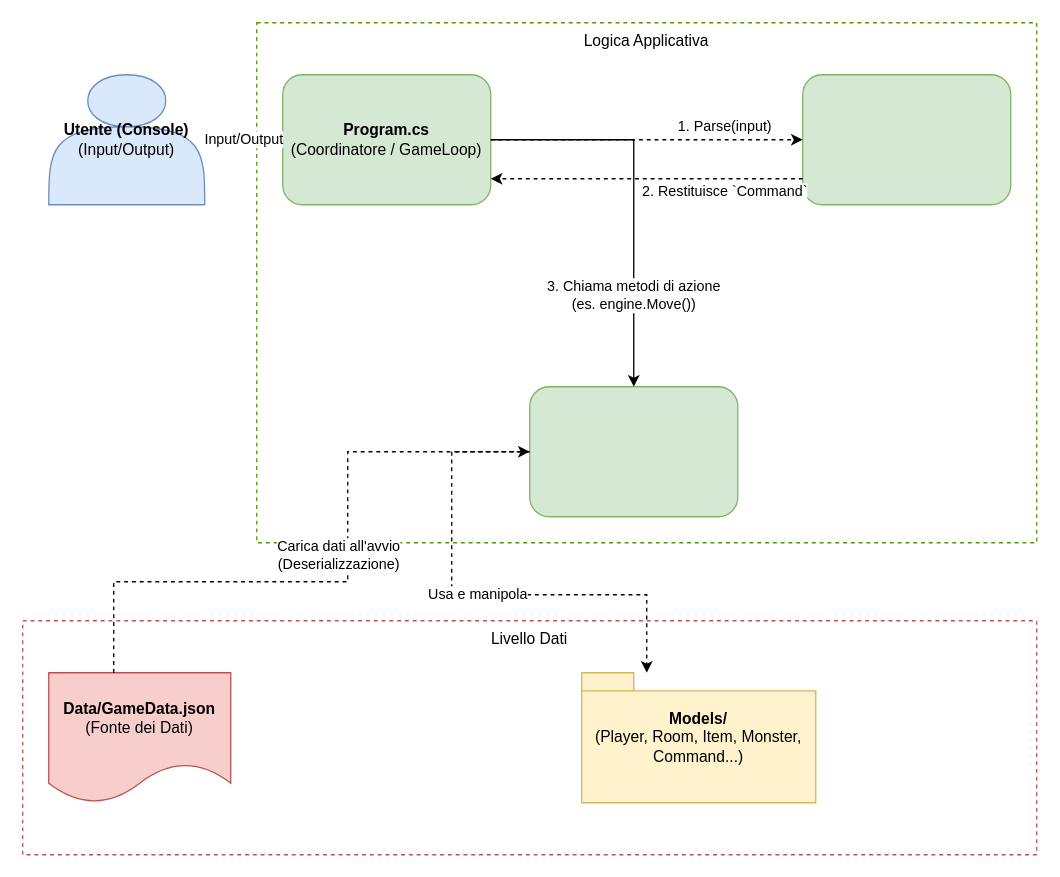
Image size: 1060x877. Some labels were removed from this diagram. Here are the shapes that lost their labels. From the top down, the centre of each, then its label:
At [906,139]: "CommandParser.cs (Interprete)".
At [633,451]: "GameEngine.cs (Motore di Gioco)".
